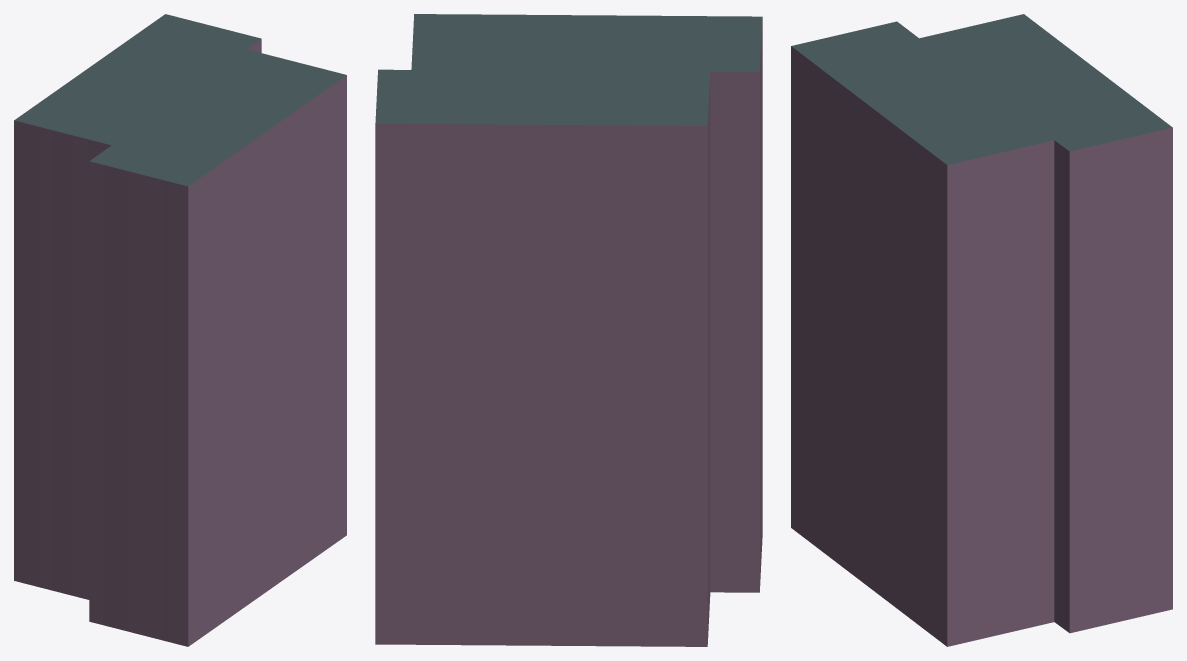
The model's file is nyc-1024665-0.glb.
3 views of the same model, side by side, from view 1: azimuth 30°, elevation 25°; view 2: azimuth 150°, elevation 25°; view 3: azimuth 270°, elevation 25° (orthographic). The views are drawn at different scales.
Visible parts, largest first — view 1: nyc-1024665-0; view 2: nyc-1024665-0; view 3: nyc-1024665-0.
Part boxes in pixels (x1,y1,x2,y2): nyc-1024665-0: (14, 14, 346, 646); nyc-1024665-0: (375, 14, 762, 646); nyc-1024665-0: (791, 14, 1172, 646).
Size of the model in its own units: 88.35 by 131 by 94.3.
